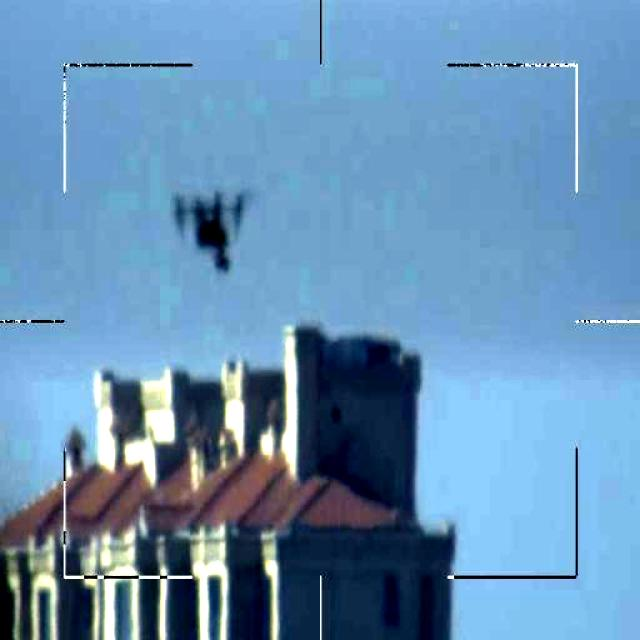bird: (170, 181, 249, 278)
